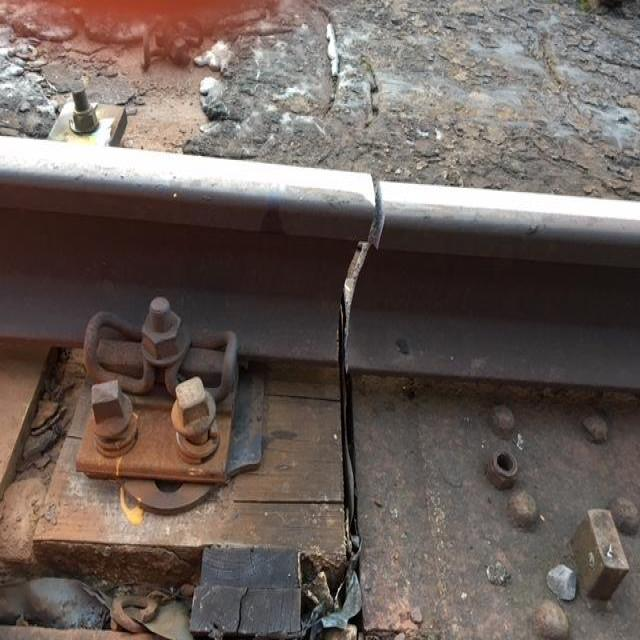fault: (331, 164, 401, 396)
